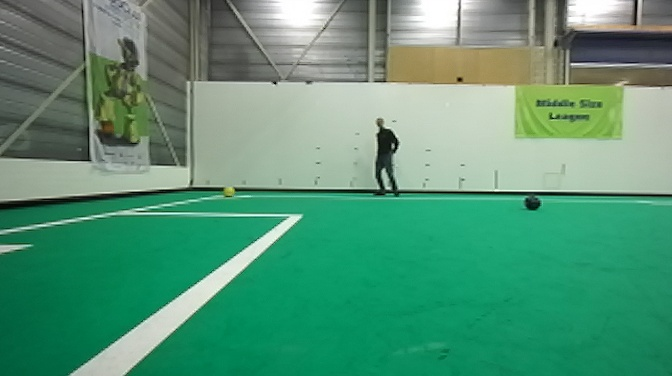ball: (521, 191, 545, 213), (223, 184, 237, 198)
human: (369, 115, 406, 199)
